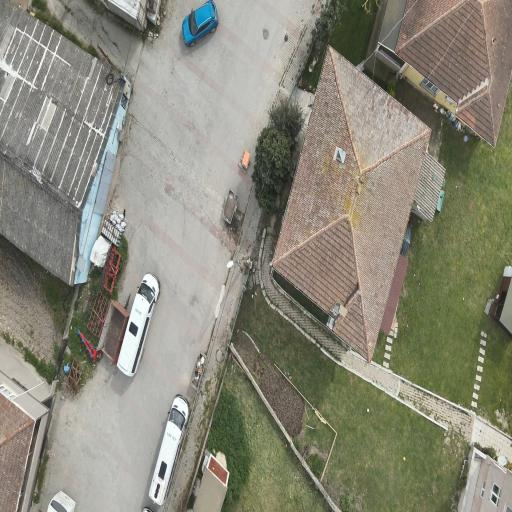car: (149, 395, 189, 505), (118, 274, 159, 376), (183, 0, 218, 46), (48, 492, 75, 511)
